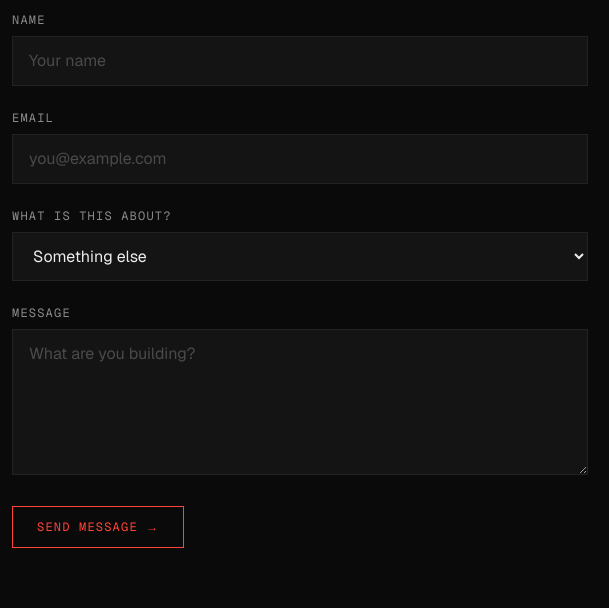
Test: ContactForm › announces success after a delivered submission
Type "Ada Lovelace" into the field labelled "Name".
click(300, 61); type("Ada Lovelace")  # box [12, 36, 588, 86]
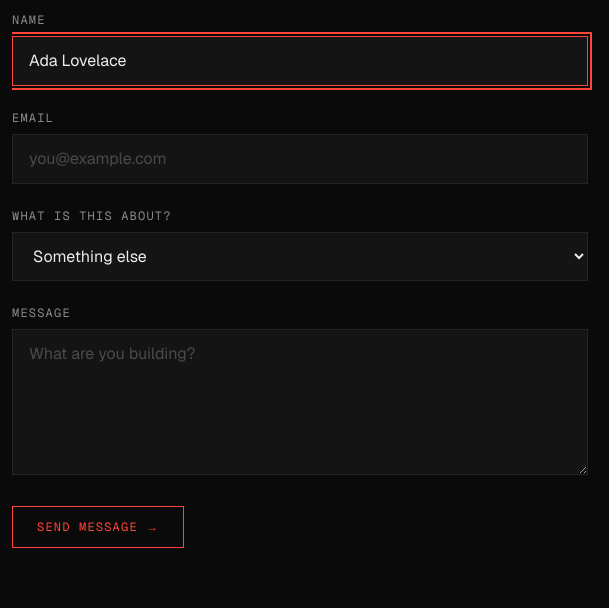
Type "ada@example.com" into the field labelled "Email".
click(300, 159); type("ada@example.com")  # box [12, 134, 588, 184]
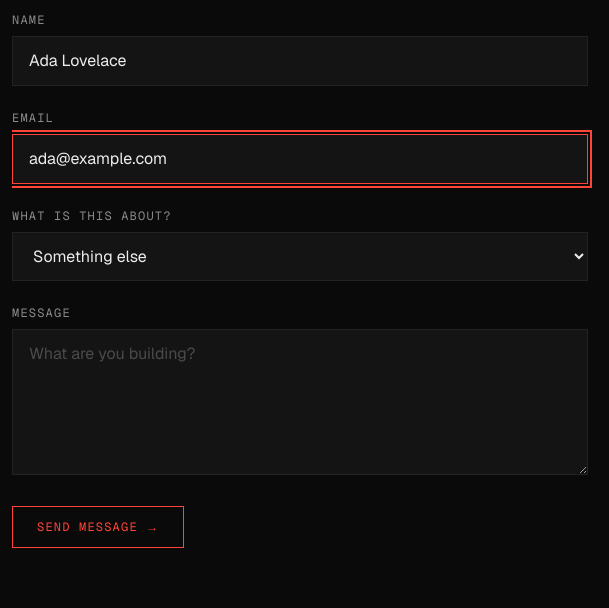
Type "Hello there." into the text box labelled "Message".
click(300, 402); type("Hello there.")  # box [12, 329, 588, 475]
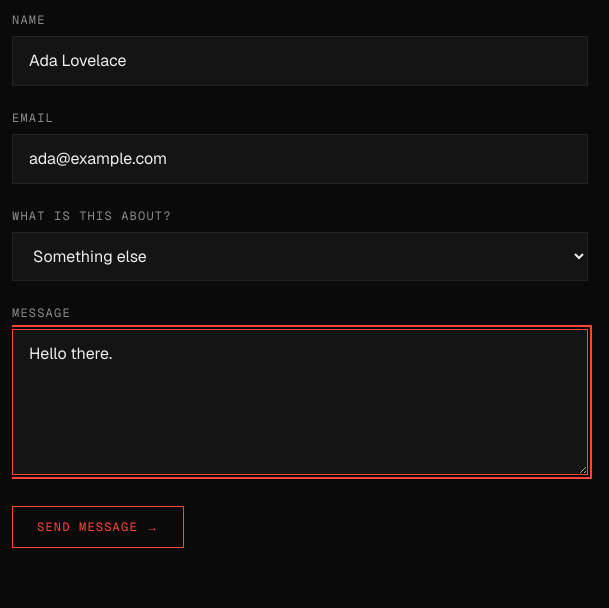
Click the button "Send message →".
click(98, 527)  # box [12, 506, 184, 548]
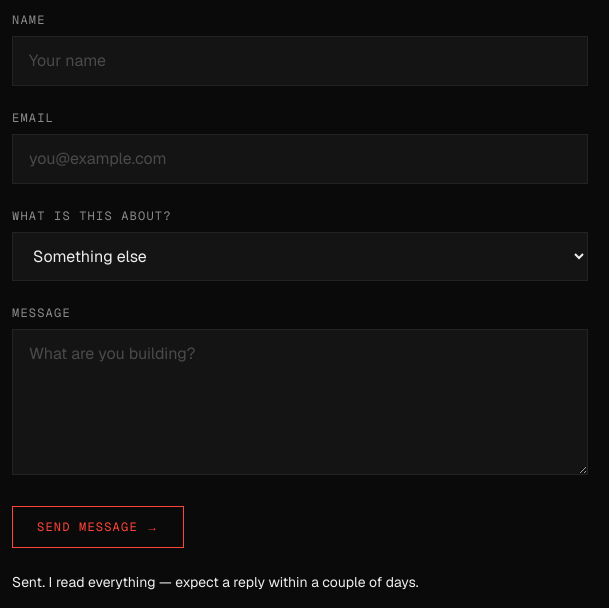
Result: the text "Sent." is shown at [12, 573, 418, 591]
